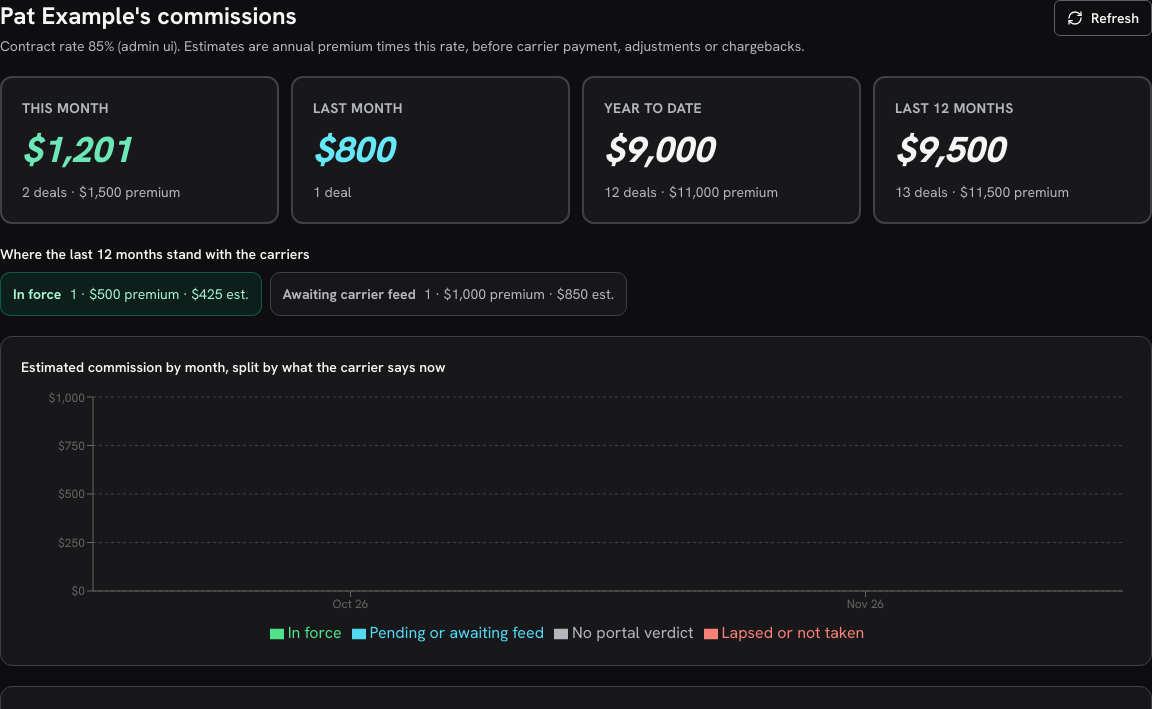
Test case: CommissionsDashboard › filters the deals by lane when a lane chip is pressed, and clears
This screenshot has width=1152, height=709.
Click the button "In force1 · $500 premium · $425 est.". click: (131, 294)
box: [0,272,262,316]
(page scrolled)
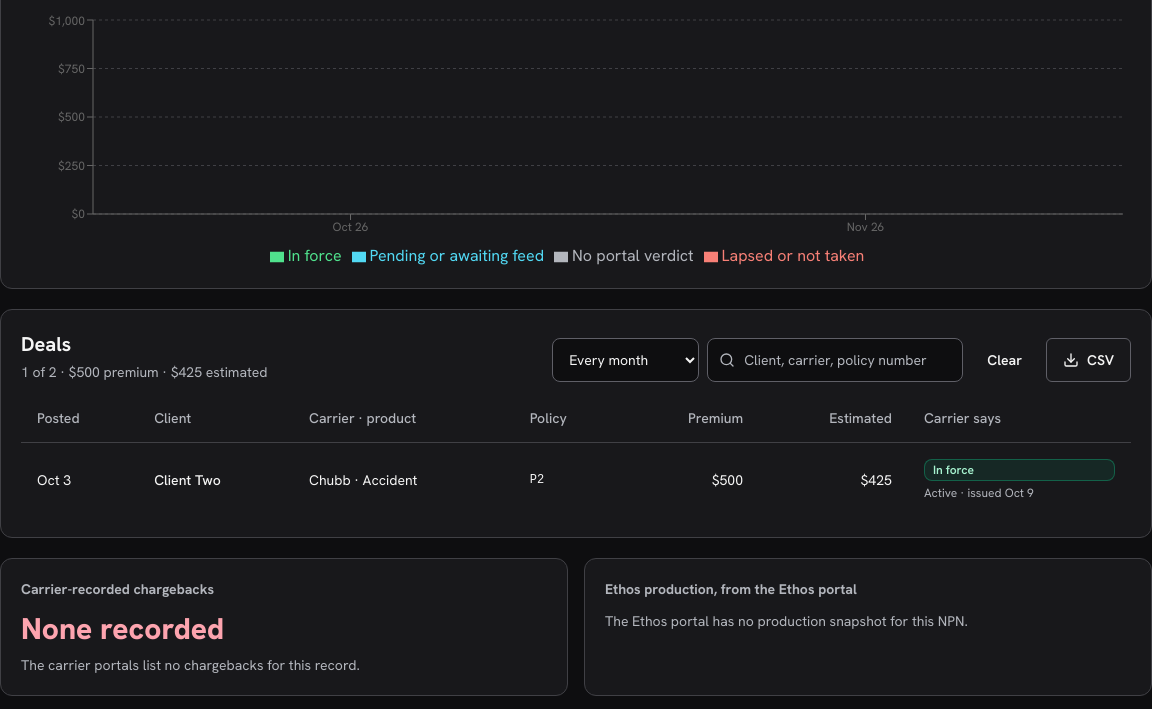
Expected: the text "Client Two" is shown, [138,442,293,516]
Expected: the text "1 of 2 · $500 premium · $425 estimated" is shown, [21,362,267,382]
Click the button "Clear". click: (1005, 360)
box: [971,338,1038,382]
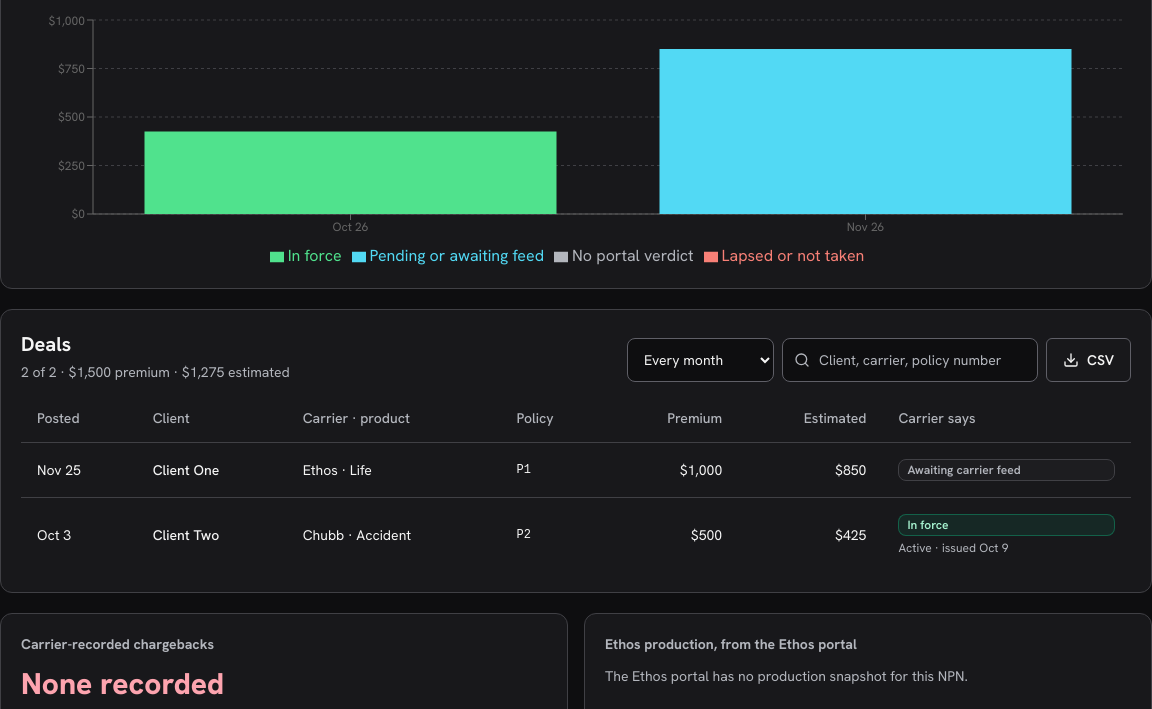
Expected: the text "Client One" is shown, [137,442,287,497]
